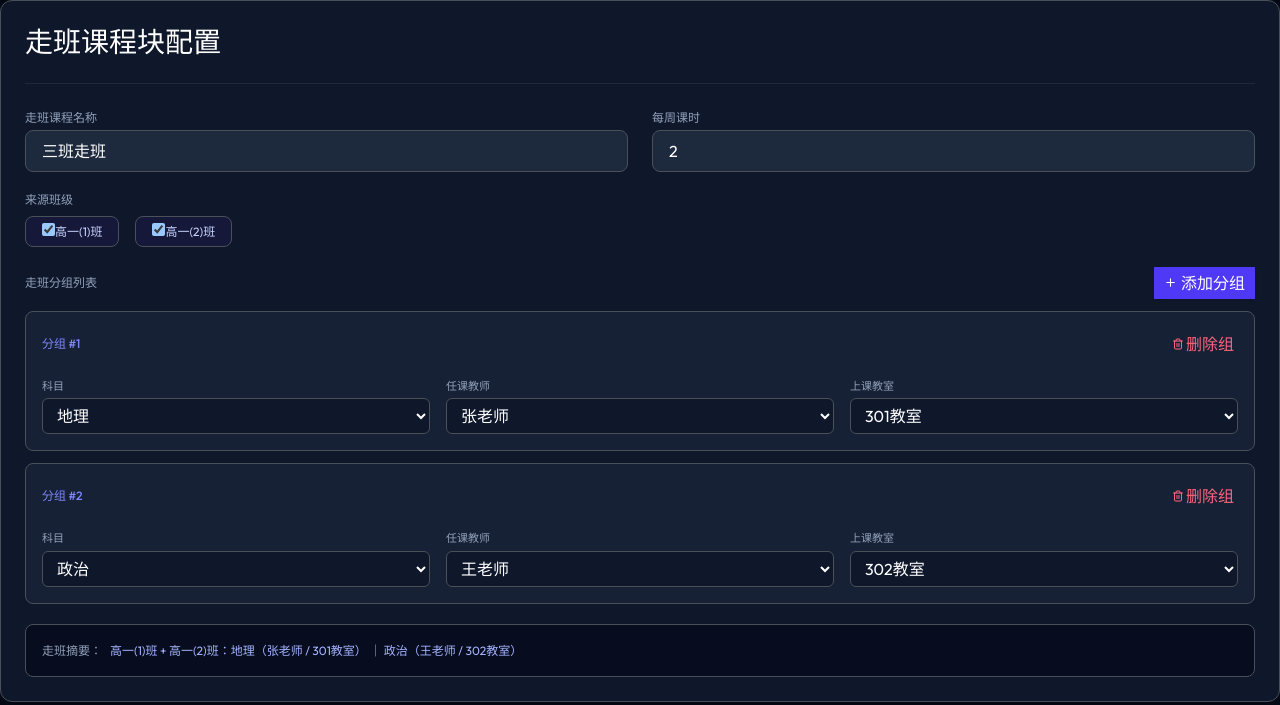
SplitCourseBlockEditor › updates block when deleting a group without mutating or generating a new block id
Expected: the number of elements "分组 #1 删除组 科目 任课教师 上课教室" is 2, [25, 311, 1255, 451]; [25, 463, 1255, 604]
Note: Delete group 1
Click the 1st button "删除组": coordinates (1203, 344) [1168, 328, 1238, 360]
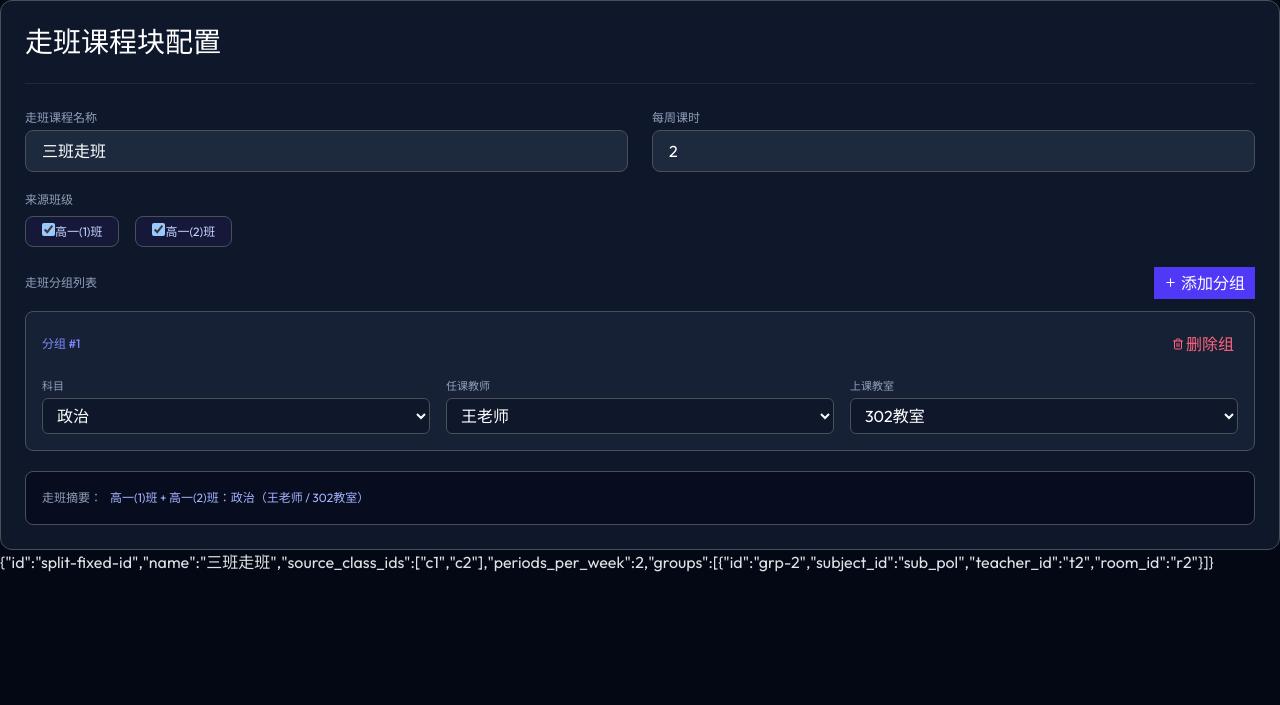
Expected: the number of elements "分组 #1 删除组 科目 任课教师 上课教室" is 1, [25, 311, 1255, 451]
